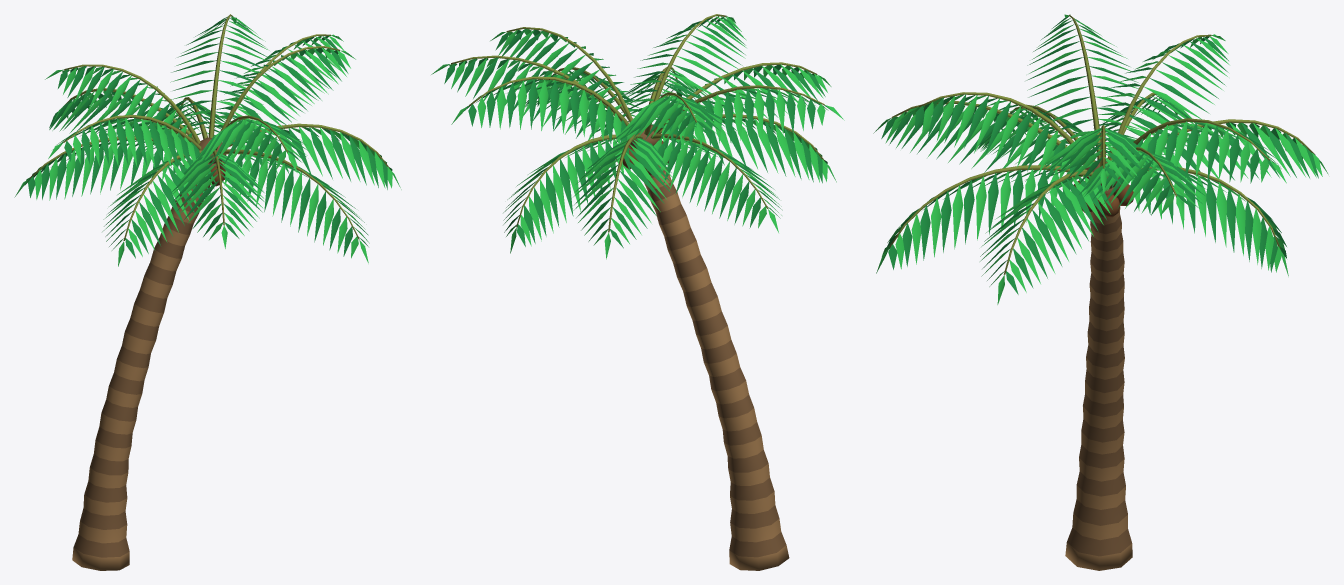
File: palm_tree_a.glb
The picture shows the model from 3 angles, left to right: view 1: azimuth 30°, elevation 25°; view 2: azimuth 150°, elevation 25°; view 3: azimuth 270°, elevation 25°; orthographic projection. The views are drawn at different scales.
Visible parts, largest first — view 1: palm_tree_a_mesh; view 2: palm_tree_a_mesh; view 3: palm_tree_a_mesh.
Boxes of the visible parts, bbox=[...] form: palm_tree_a_mesh: bbox=[14, 14, 401, 570]; palm_tree_a_mesh: bbox=[431, 14, 844, 570]; palm_tree_a_mesh: bbox=[873, 14, 1328, 570].
Bounding box in the file's own units: 6.44 × 8.23 × 6.32.
